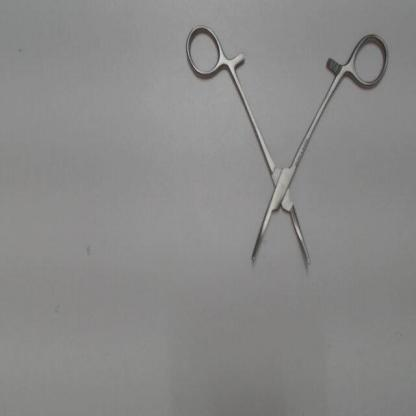Crile Artery Forceps: (173, 18, 391, 276)
